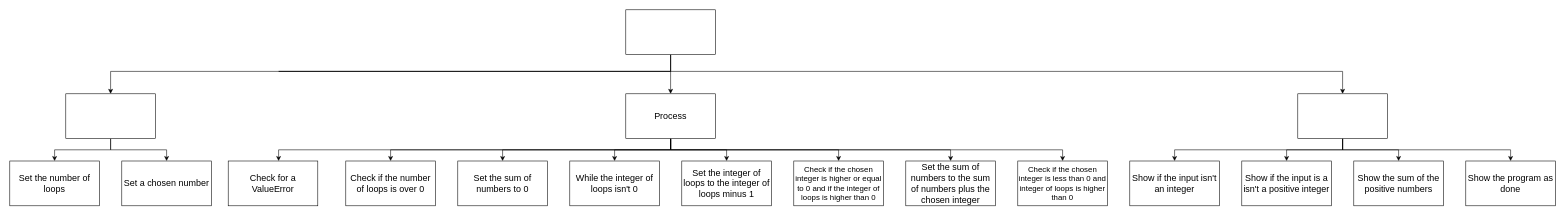
This 1565x216 diagram has some shape labels left out. The box of each missing label's shape, as (x1, y1, x2, y2) in pixels:
Adding Positive Integers: (625, 9, 715, 55)
Input: (65, 93, 155, 139)
Output: (1297, 93, 1387, 139)
